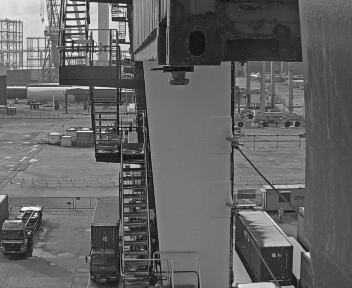twist_lock_1: (161, 60, 195, 90)
